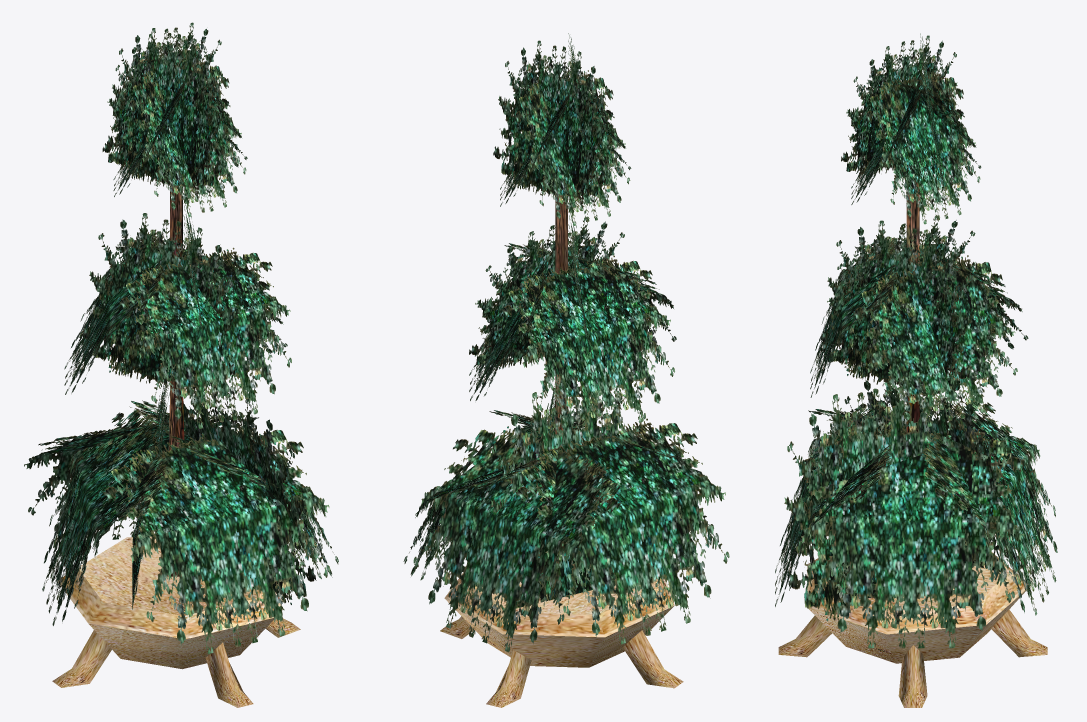
File: frn_all_plant_potted_lg_s3_l1.fbx
The picture shows the model from 3 angles, left to right: view 1: azimuth 30°, elevation 25°; view 2: azimuth 150°, elevation 25°; view 3: azimuth 270°, elevation 25°; orthographic projection. The views are drawn at different scales.
Parts seen in each view (by area): view 1: mesh_node; view 2: mesh_node; view 3: mesh_node.
Boxes of the visible parts, x1,y1,x2,y2 form: mesh_node: (24, 22, 338, 707); mesh_node: (403, 33, 729, 707); mesh_node: (775, 33, 1057, 707).
Bounding box in the file's own units: 0.9308 × 2.03 × 0.9006.
2 materials, 2 textured.
